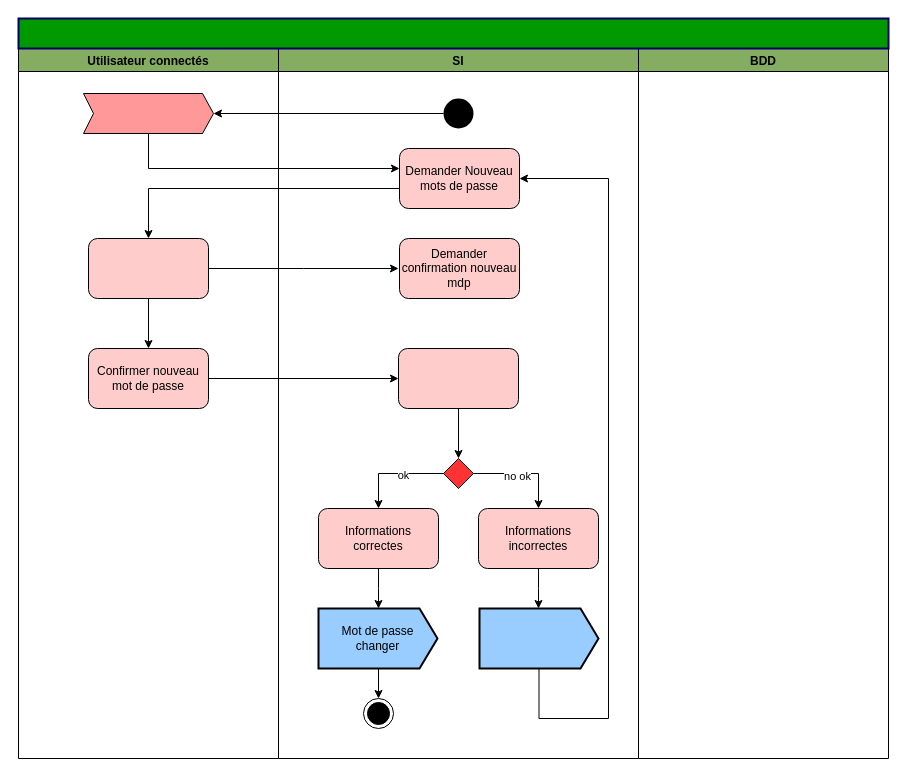
Image size: 906x776. Some labels were removed from this diagram. The shapes that lost their labels are listed below. From the top down, each one's centre as x and y in pixels, then its label:
At (x=453, y=33): "Régénérer mot de passe".
At (x=148, y=113): "Cliquer sur régénérer mot de passe".
At (x=148, y=268): "Saisir nouveau mot de passe".
At (x=458, y=378): "Vérifier informations".
At (x=538, y=638): "Mot de passe incorrect".
